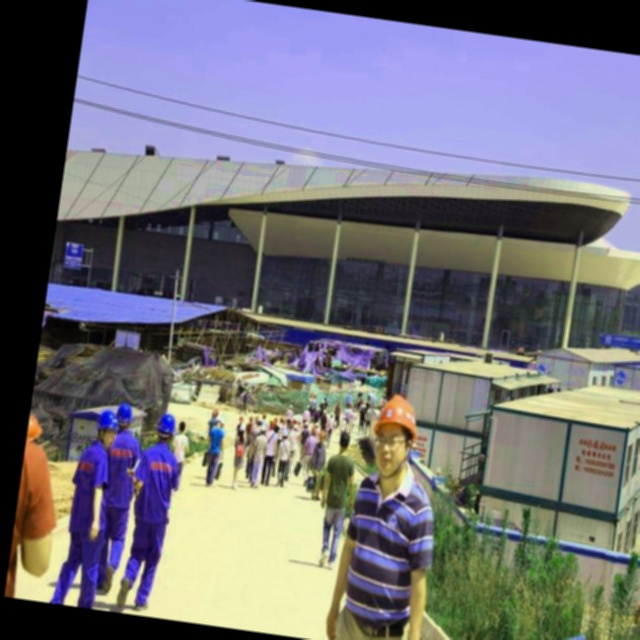Con_Casco: (367, 391, 420, 480)
Sin_Chaleco: (336, 469, 439, 623), (64, 442, 115, 535), (132, 443, 180, 524)
